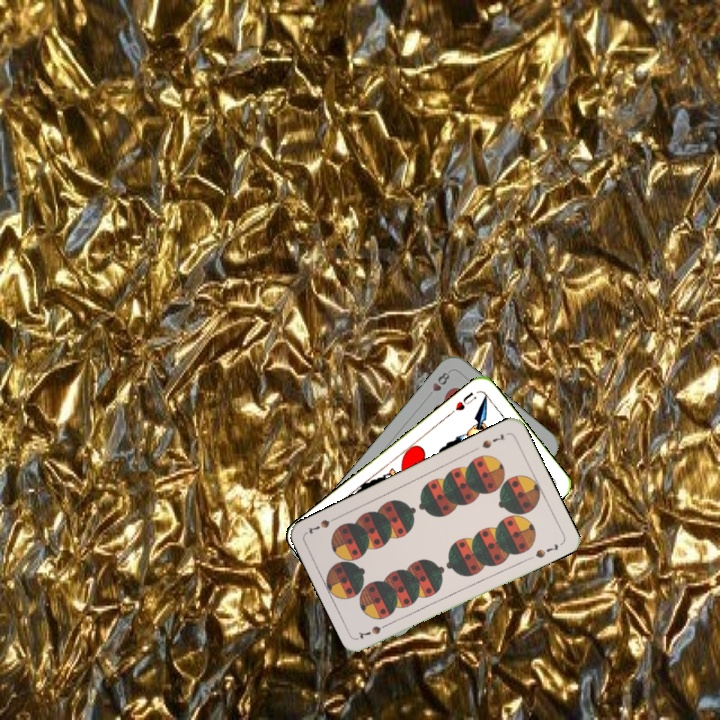H8: (423, 368, 452, 401)
HU: (446, 388, 479, 417)
S7: (355, 618, 394, 642), (478, 430, 508, 451)
